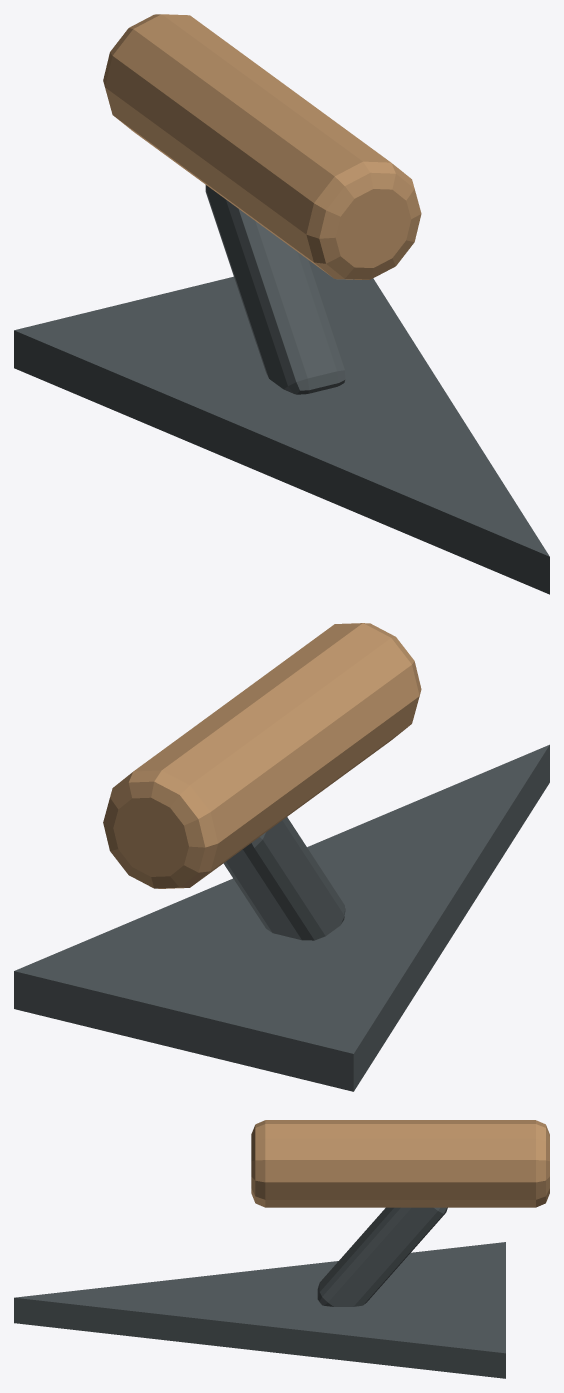
Rendered from tool_mason_trowel.glb.
3 renders of one model, top to bottom at view 1: azimuth 30°, elevation 25°; view 2: azimuth 150°, elevation 25°; view 3: azimuth 270°, elevation 25°, orthographic. The views are drawn at different scales.
Visible parts, largest first — view 1: tool_mason_trowel; view 2: tool_mason_trowel; view 3: tool_mason_trowel.
Part boxes in pixels (x1,y1,x2,y2): tool_mason_trowel: (14, 14, 549, 594); tool_mason_trowel: (14, 623, 549, 1091); tool_mason_trowel: (14, 1120, 549, 1378).
Bounding box in the file's own units: 0.15 × 0.125 × 0.305.
